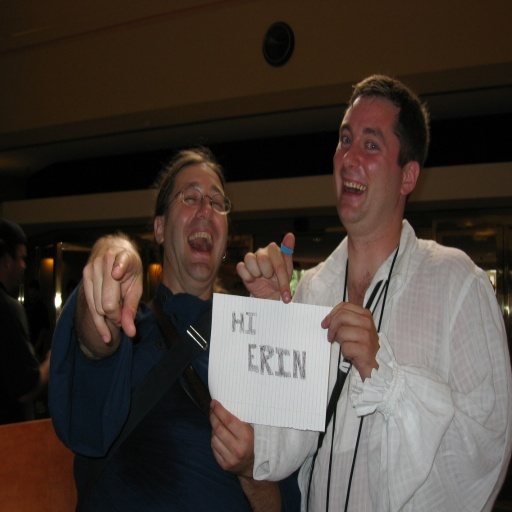hand: (67, 227, 147, 366), (319, 302, 381, 376), (234, 232, 295, 304), (208, 398, 253, 476)
